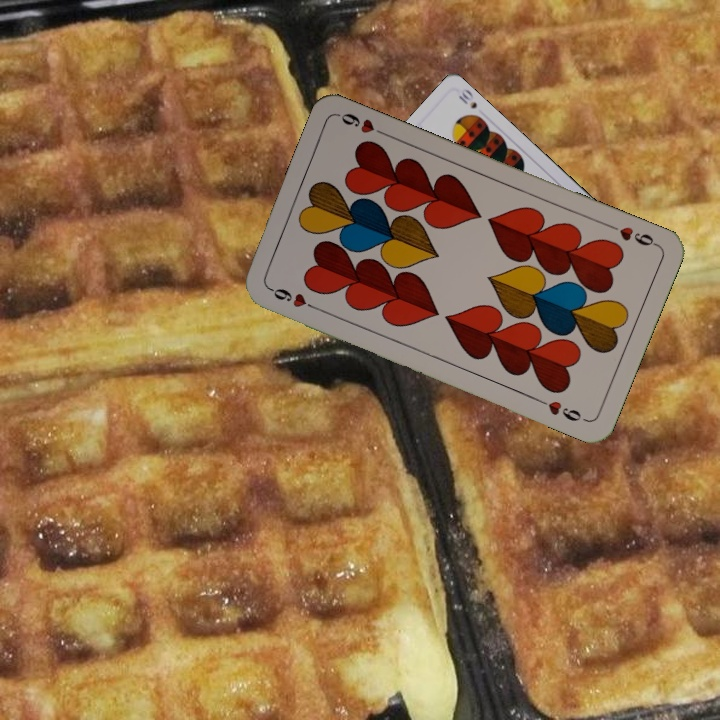H9: (265, 283, 321, 313), (604, 220, 661, 249)
